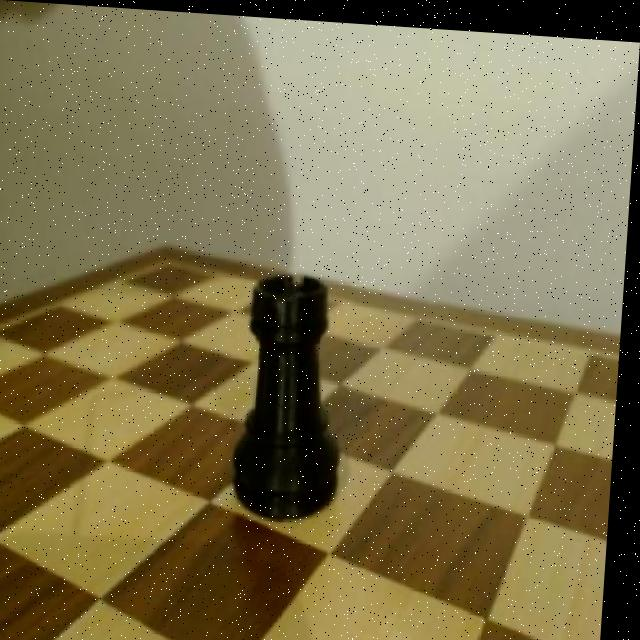black-queen: (232, 262, 360, 527)
